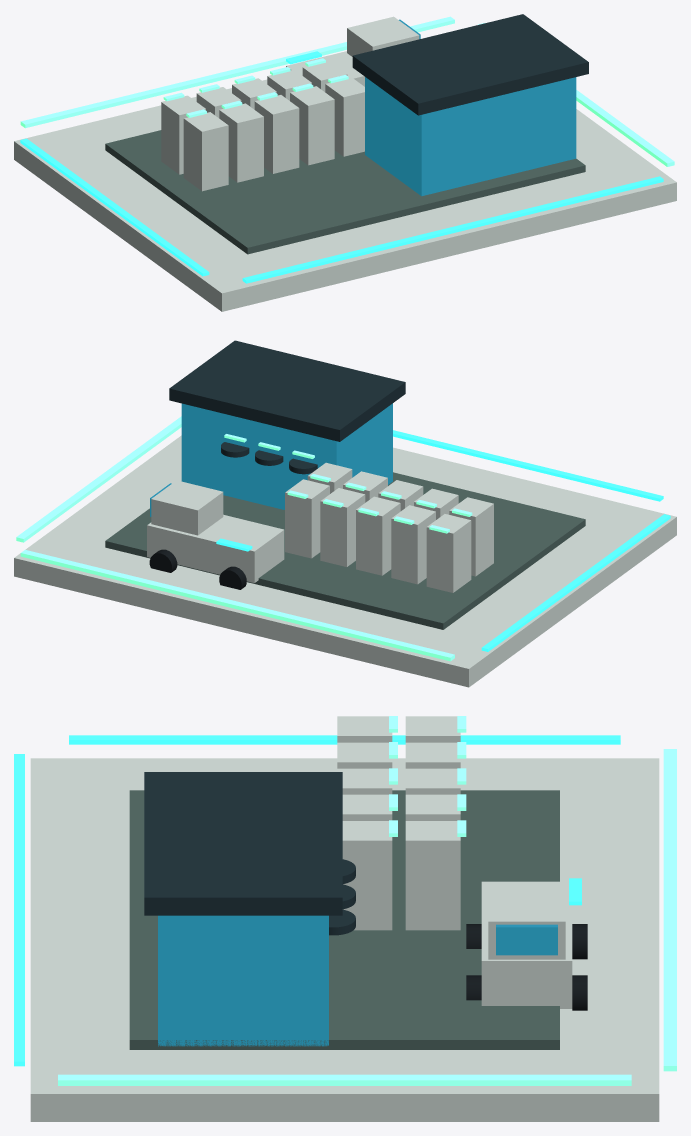
Rendered from storage-microgrid-landmark.glb.
3 views of the same model, one above another, from view 1: azimuth 30°, elevation 25°; view 2: azimuth 150°, elevation 25°; view 3: azimuth 270°, elevation 25° (orthographic). The views are drawn at different scales.
Parts seen in each view (by area): view 1: rj-storage-microgrid-landmark-clickable-district-pad, rj-storage-microgrid-landmark-inner-service-plaza, rj-storage-microgrid-landmark-microgrid-control-shelter, rj-storage-microgrid-landmark-shelter-roof, rj-storage-microgrid-landmark-battery-rack-2-1, rj-storage-microgrid-landmark-rear-service-rail, rj-storage-microgrid-landmark-front-status-rail, rj-storage-microgrid-landmark-battery-rack-2-3, rj-storage-microgrid-landmark-battery-rack-2-2, rj-storage-microgrid-landmark-battery-rack-2-4, rj-storage-microgrid-landmark-battery-rack-2-5, rj-storage-microgrid-landmark-battery-rack-1-1 (+8 smaller); view 2: rj-storage-microgrid-landmark-clickable-district-pad, rj-storage-microgrid-landmark-inner-service-plaza, rj-storage-microgrid-landmark-shelter-roof, rj-storage-microgrid-landmark-microgrid-control-shelter, rj-storage-microgrid-landmark-battery-service-cart-body, rj-storage-microgrid-landmark-front-status-rail, rj-storage-microgrid-landmark-battery-rack-1-1, rj-storage-microgrid-landmark-battery-service-cart-cab, rj-storage-microgrid-landmark-battery-rack-1-4, rj-storage-microgrid-landmark-battery-rack-1-2, rj-storage-microgrid-landmark-battery-rack-1-3, rj-storage-microgrid-landmark-battery-rack-1-5 (+8 smaller); view 3: rj-storage-microgrid-landmark-clickable-district-pad, rj-storage-microgrid-landmark-inner-service-plaza, rj-storage-microgrid-landmark-shelter-roof, rj-storage-microgrid-landmark-microgrid-control-shelter, rj-storage-microgrid-landmark-right-status-rail, rj-storage-microgrid-landmark-battery-rack-1-5, rj-storage-microgrid-landmark-battery-service-cart-body, rj-storage-microgrid-landmark-battery-rack-2-5, rj-storage-microgrid-landmark-front-status-rail, rj-storage-microgrid-landmark-left-service-rail, rj-storage-microgrid-landmark-battery-service-cart-cab, rj-storage-microgrid-landmark-rear-service-rail (+9 smaller).
Boxes of the visible parts, <box> form: rj-storage-microgrid-landmark-clickable-district-pad: <box>14,79,676,311</box>; rj-storage-microgrid-landmark-inner-service-plaza: <box>105,130,585,254</box>; rj-storage-microgrid-landmark-microgrid-control-shelter: <box>365,77,576,196</box>; rj-storage-microgrid-landmark-shelter-roof: <box>352,14,588,115</box>; rj-storage-microgrid-landmark-battery-rack-2-1: <box>183,112,228,191</box>; rj-storage-microgrid-landmark-rear-service-rail: <box>242,176,663,283</box>; rj-storage-microgrid-landmark-front-status-rail: <box>20,16,454,128</box>; rj-storage-microgrid-landmark-battery-rack-2-3: <box>254,95,299,173</box>; rj-storage-microgrid-landmark-battery-rack-2-2: <box>219,103,263,182</box>; rj-storage-microgrid-landmark-battery-rack-2-4: <box>290,86,334,165</box>; rj-storage-microgrid-landmark-battery-rack-2-5: <box>325,77,364,156</box>; rj-storage-microgrid-landmark-battery-rack-1-1: <box>161,95,205,174</box>; rj-storage-microgrid-landmark-clickable-district-pad: <box>14,435,676,687</box>; rj-storage-microgrid-landmark-inner-service-plaza: <box>105,472,585,629</box>; rj-storage-microgrid-landmark-shelter-roof: <box>169,340,405,441</box>; rj-storage-microgrid-landmark-microgrid-control-shelter: <box>181,403,392,509</box>; rj-storage-microgrid-landmark-battery-service-cart-body: <box>147,514,284,583</box>; rj-storage-microgrid-landmark-front-status-rail: <box>20,549,454,661</box>; rj-storage-microgrid-landmark-battery-rack-1-1: <box>426,514,471,592</box>; rj-storage-microgrid-landmark-battery-service-cart-cab: <box>151,480,223,535</box>; rj-storage-microgrid-landmark-battery-rack-1-4: <box>320,488,365,566</box>; rj-storage-microgrid-landmark-battery-rack-1-2: <box>391,505,435,584</box>; rj-storage-microgrid-landmark-battery-rack-1-3: <box>356,496,400,575</box>; rj-storage-microgrid-landmark-battery-rack-1-5: <box>285,479,329,558</box>; rj-storage-microgrid-landmark-clickable-district-pad: <box>30,758,659,1121</box>; rj-storage-microgrid-landmark-inner-service-plaza: <box>129,790,559,1049</box>; rj-storage-microgrid-landmark-shelter-roof: <box>144,772,342,915</box>; rj-storage-microgrid-landmark-microgrid-control-shelter: <box>158,915,328,1046</box>; rj-storage-microgrid-landmark-right-status-rail: <box>58,1074,631,1085</box>; rj-storage-microgrid-landmark-battery-rack-1-5: <box>405,821,460,930</box>; rj-storage-microgrid-landmark-battery-service-cart-body: <box>481,881,572,1008</box>; rj-storage-microgrid-landmark-battery-rack-2-5: <box>342,821,392,930</box>; rj-storage-microgrid-landmark-front-status-rail: <box>663,749,676,1071</box>; rj-storage-microgrid-landmark-left-service-rail: <box>69,735,620,744</box>; rj-storage-microgrid-landmark-battery-service-cart-cab: <box>488,887,565,959</box>; rj-storage-microgrid-landmark-rear-service-rail: <box>14,754,24,1066</box>.
Size of the model in its own units: 7.41 by 1.87 by 6.01.
